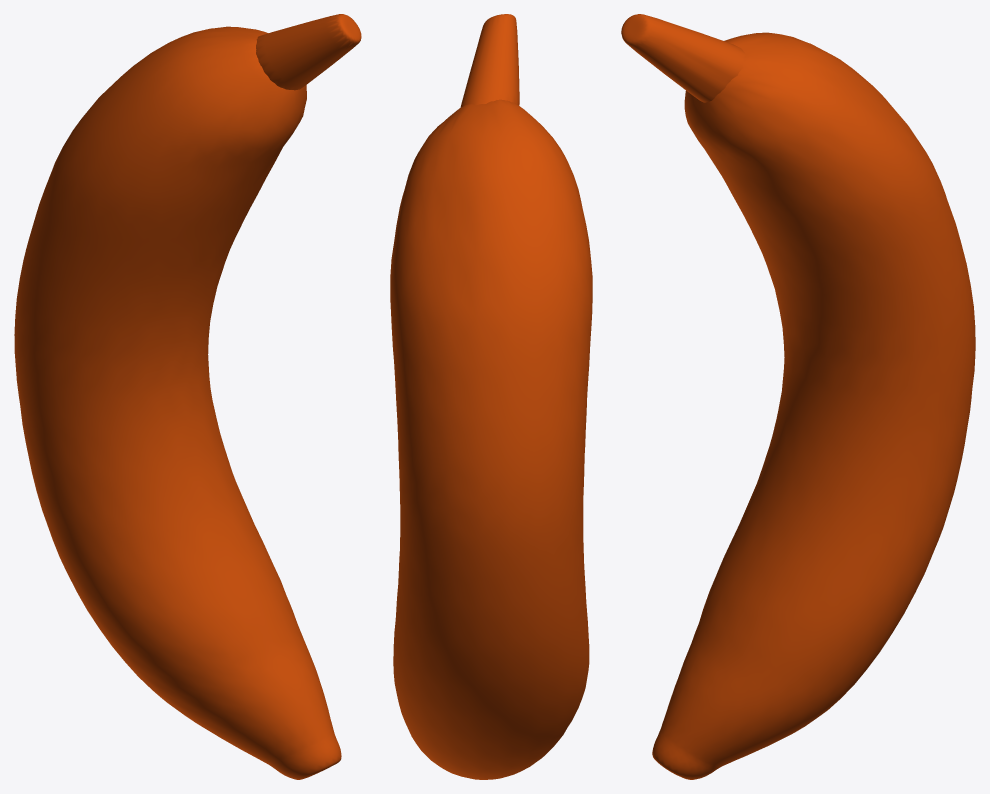
3 views of the same model, side by side, from view 1: azimuth 30°, elevation 25°; view 2: azimuth 150°, elevation 25°; view 3: azimuth 270°, elevation 25° (orthographic). The views are drawn at different scales.
Visible parts, largest first — view 1: hand_decor_banana; view 2: hand_decor_banana; view 3: hand_decor_banana.
Part boxes in pixels (x1,y1,x2,y2): hand_decor_banana: (14, 14, 361, 779); hand_decor_banana: (390, 14, 592, 779); hand_decor_banana: (621, 14, 975, 779).
Bounding box in the file's own units: 17.6 × 25.31 × 60.45.
